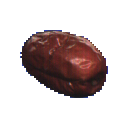ng: (16, 26, 117, 105)
